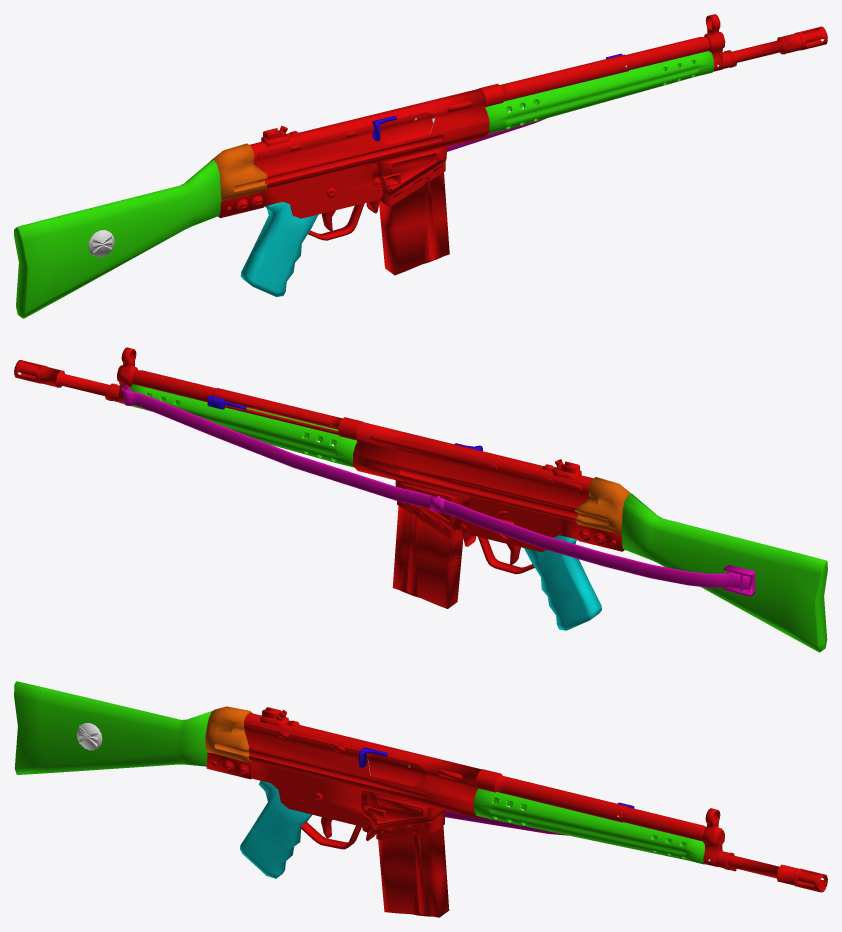
The picture shows the model from 3 angles, top to bottom: view 1: azimuth 30°, elevation 25°; view 2: azimuth 150°, elevation 25°; view 3: azimuth 330°, elevation 25°; orthographic projection.
Parts seen in each view (by area): view 1: HKG3v2; view 2: HKG3v2; view 3: HKG3v2.
Boxes of the visible parts, x1=… form: HKG3v2: x1=14, y1=14, x2=827, y2=318; HKG3v2: x1=14, y1=347, x2=827, y2=652; HKG3v2: x1=14, y1=681, x2=827, y2=917.
Size of the model in its own units: 124 by 26.18 by 6.79.
